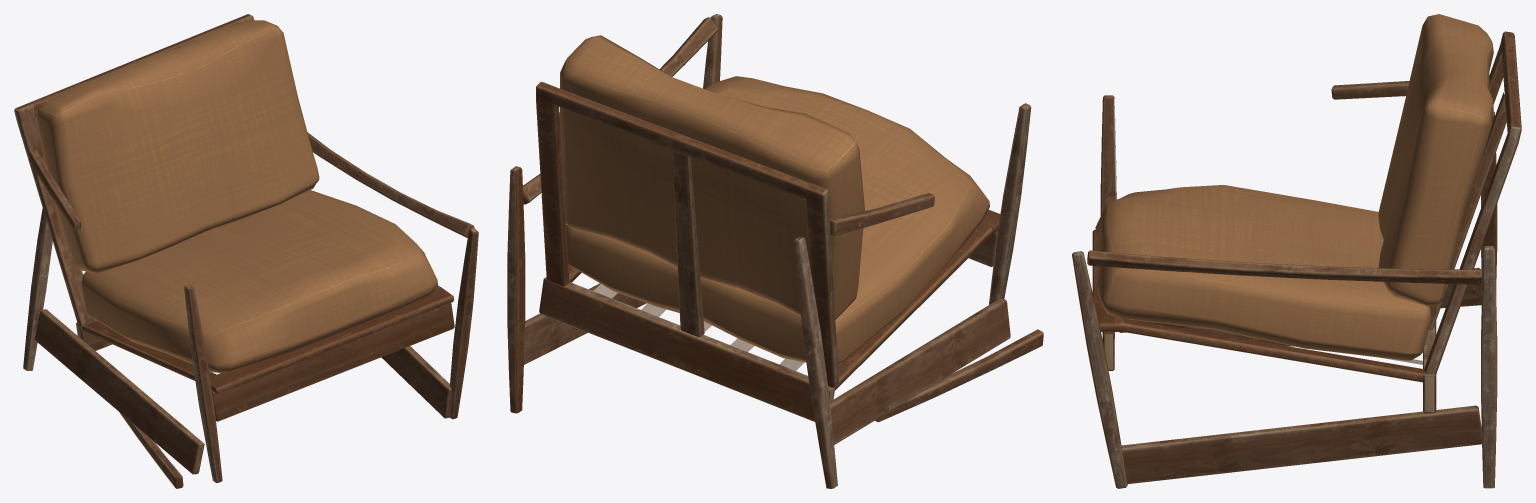
File: SM_armchair_broken.gltf
3 renders of one model, left to right at view 1: azimuth 30°, elevation 25°; view 2: azimuth 150°, elevation 25°; view 3: azimuth 270°, elevation 25°, orthographic. The views are drawn at different scales.
Visible parts, largest first — view 1: SM_armchair_broken; view 2: SM_armchair_broken; view 3: SM_armchair_broken.
Boxes of the visible parts, box(x1,y1,x2,y2) form: SM_armchair_broken: box(14, 14, 478, 488); SM_armchair_broken: box(507, 14, 1043, 488); SM_armchair_broken: box(1072, 14, 1521, 488).
Bounding box in the file's own units: 0.8726 × 0.8648 × 0.9696.
1 material, 1 textured.
